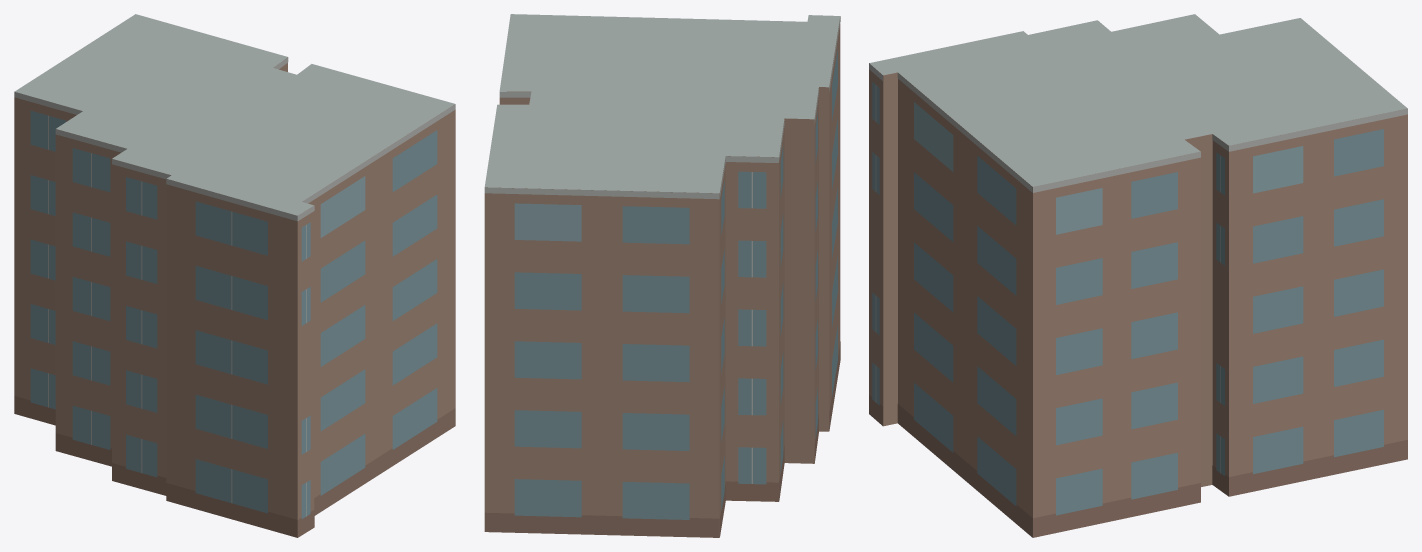
The model's file is survey-upis-33046584.glb.
The picture shows the model from 3 angles, left to right: view 1: azimuth 30°, elevation 25°; view 2: azimuth 150°, elevation 25°; view 3: azimuth 270°, elevation 25°; orthographic projection. The views are drawn at different scales.
Visible parts, largest first — view 1: survey-upis-33046584.tmp; view 2: survey-upis-33046584.tmp; view 3: survey-upis-33046584.tmp.
Part boxes in pixels (x1=…): survey-upis-33046584.tmp: x1=14, y1=14, x2=455, y2=537; survey-upis-33046584.tmp: x1=484, y1=14, x2=840, y2=537; survey-upis-33046584.tmp: x1=869, y1=14, x2=1407, y2=537.
Size of the model in its own units: 15.02 by 14.2 by 19.77.
